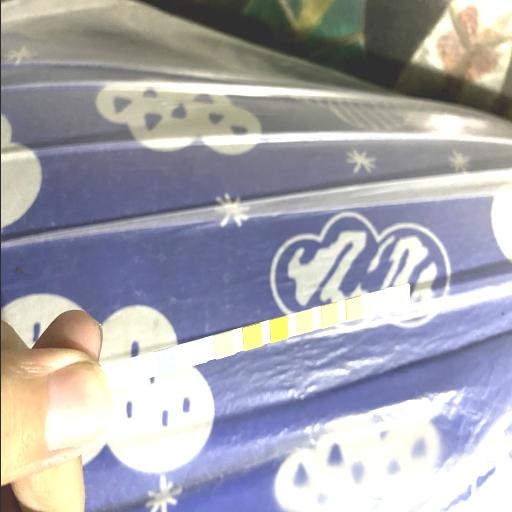Bilirubin: (186, 344, 203, 362)
Blood: (270, 320, 286, 337)
Glucose: (155, 352, 173, 372)
Ketone: (215, 336, 232, 355)
Leukocytes: (394, 287, 407, 305)
Nitrite: (370, 294, 384, 310)
Protein: (322, 308, 337, 324)
SpGravity: (244, 328, 260, 346)
Urobilinogen: (346, 300, 361, 317)
pH: (296, 313, 312, 331)
strip: (100, 283, 409, 388)
